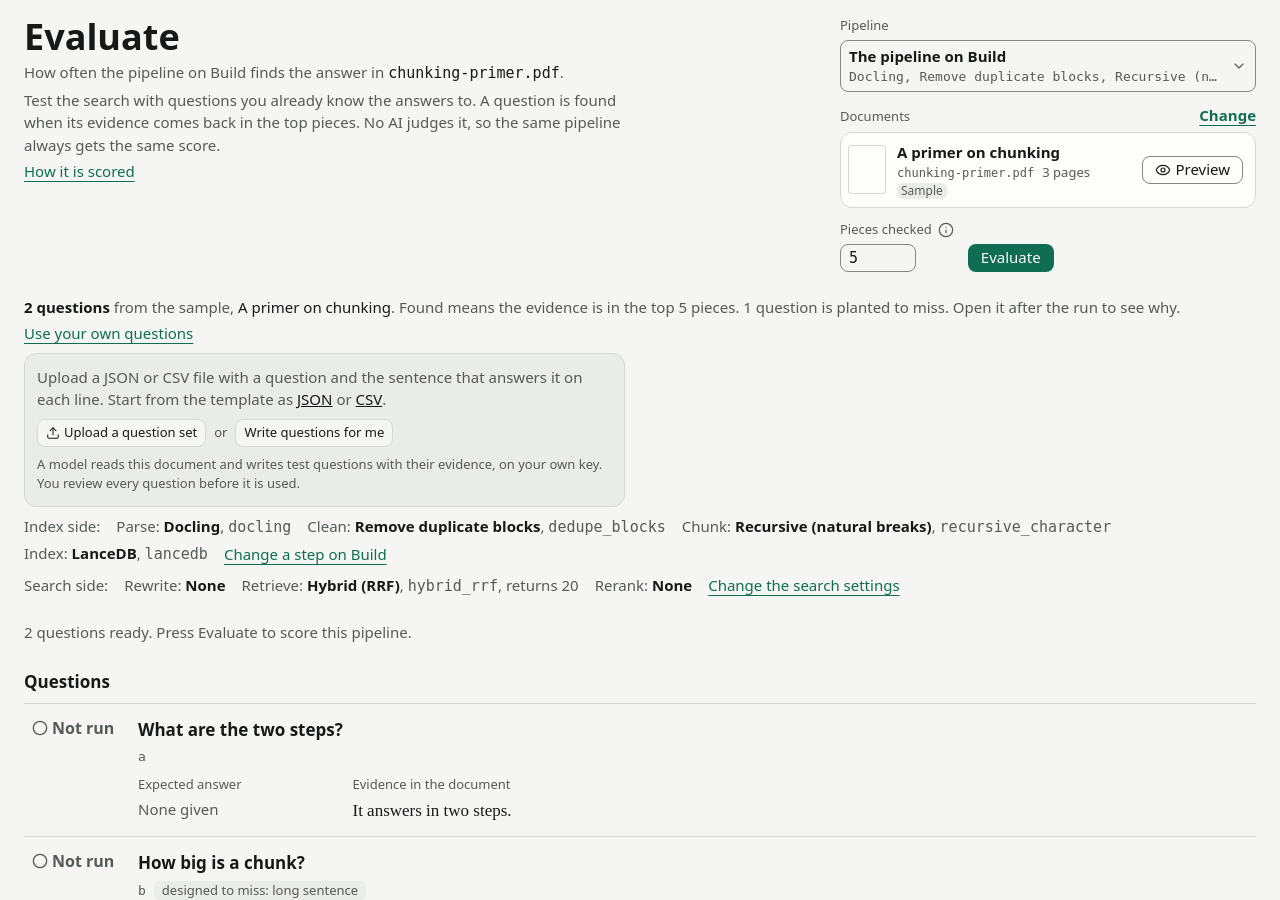
Test: questions written for you › saves the kept questions through the upload, and the set line names the model and the document
Click the button "Write questions for me" at (314,433), box [236,419,393,447]
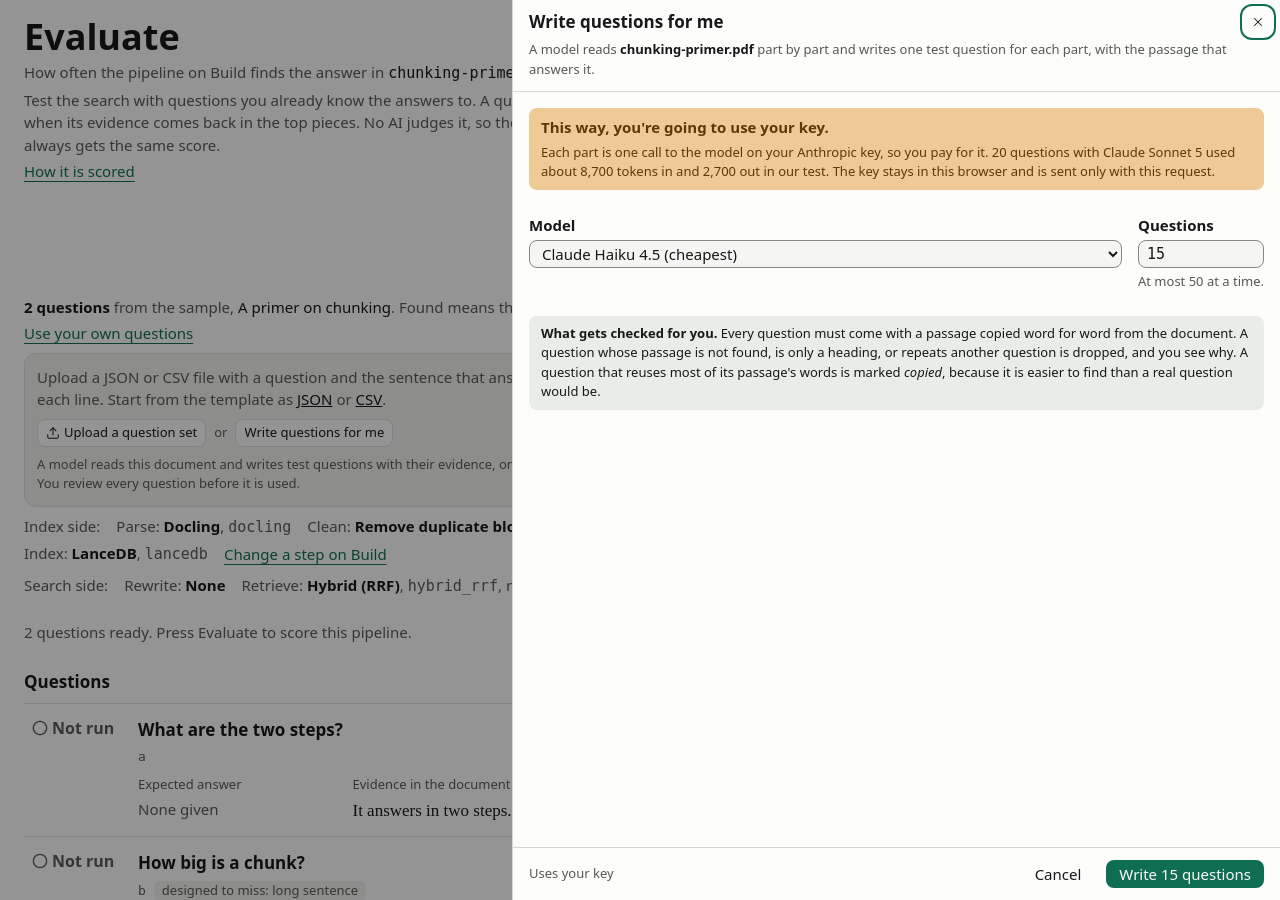
Click the button "Write 15 questions" at (1185,874), box [1106,860,1264,888]
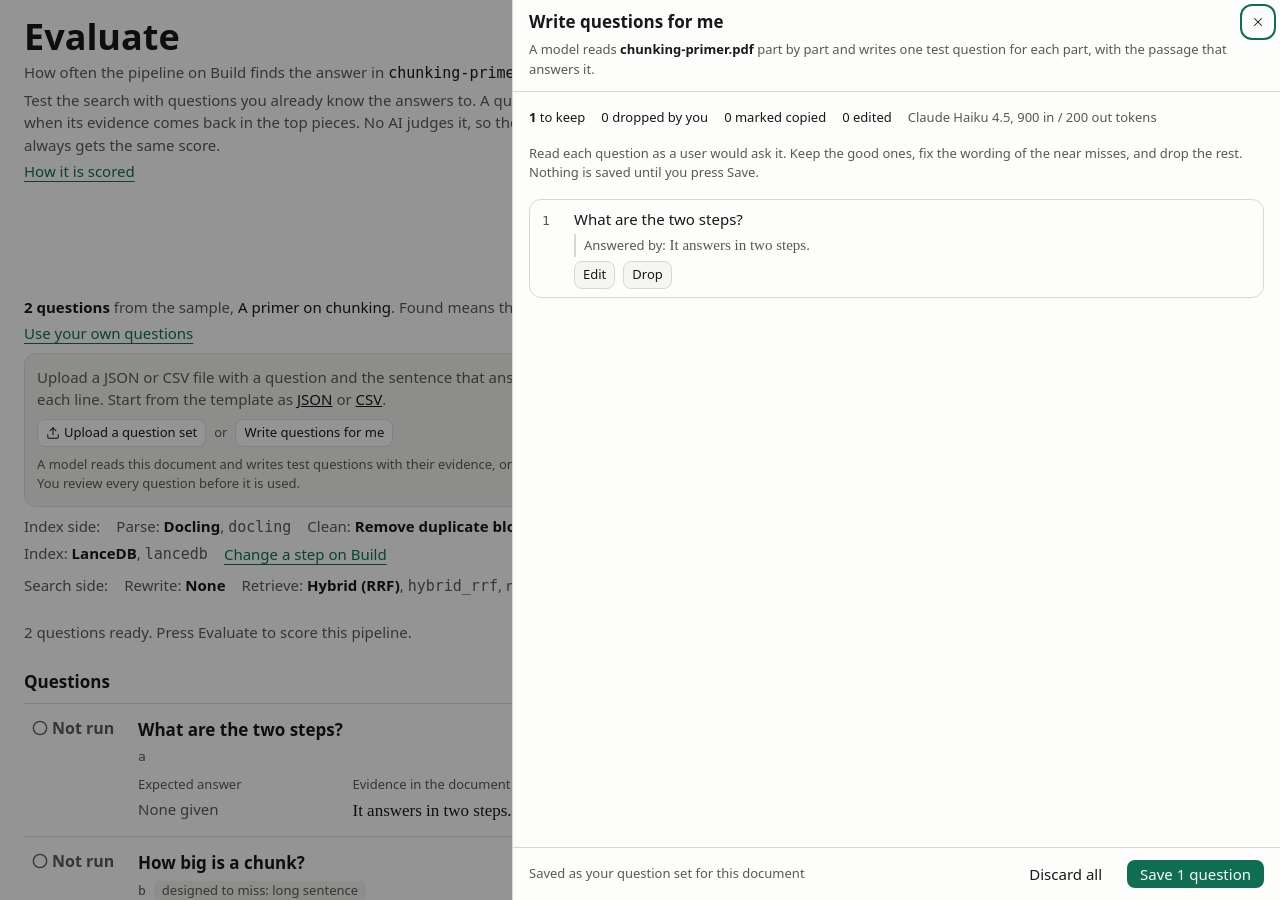
Click the button "Edit" at (595,274), box [574,260,615,288]
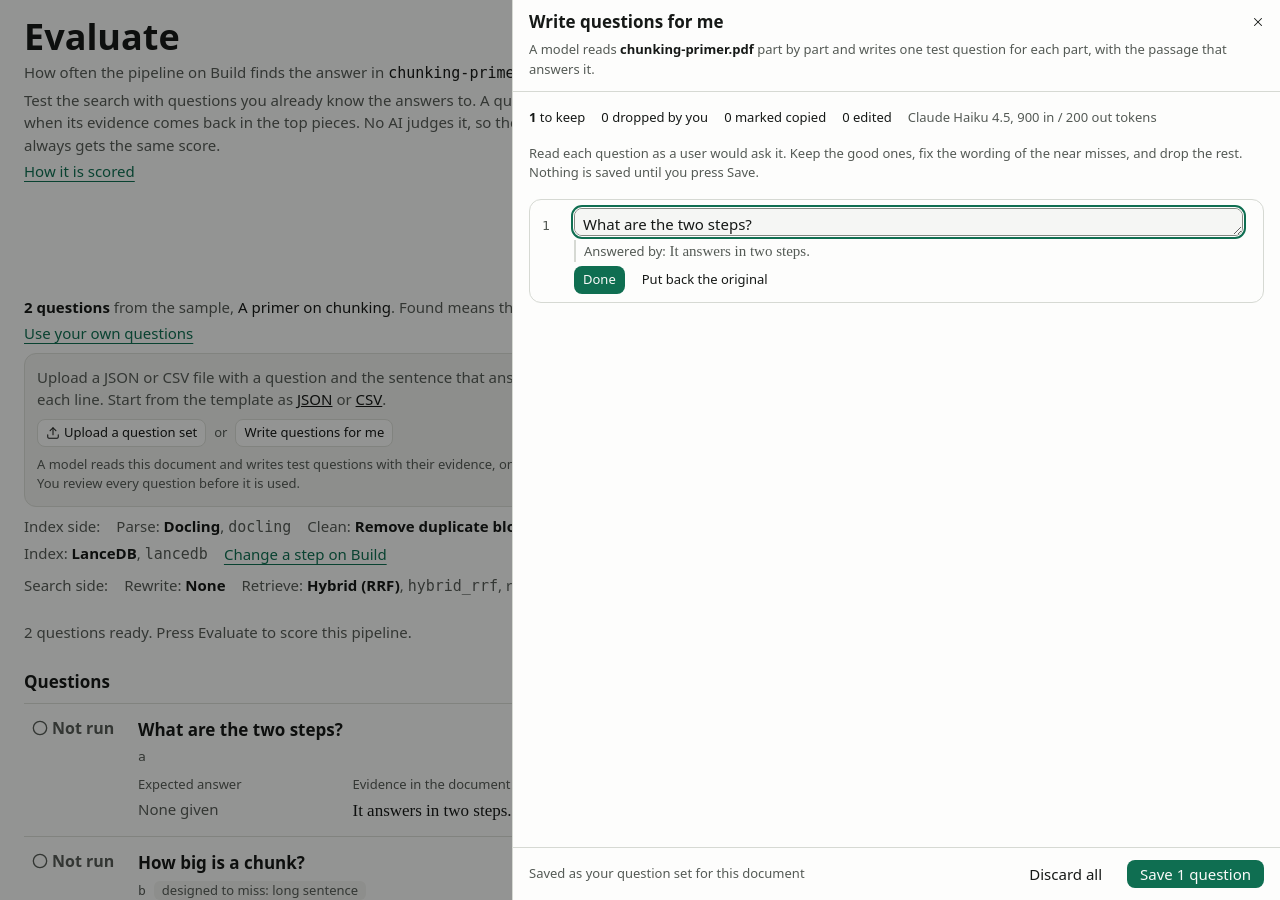
Replace the text in the text box with "Which two steps?" at (908,222), box [574,208,1243,236]
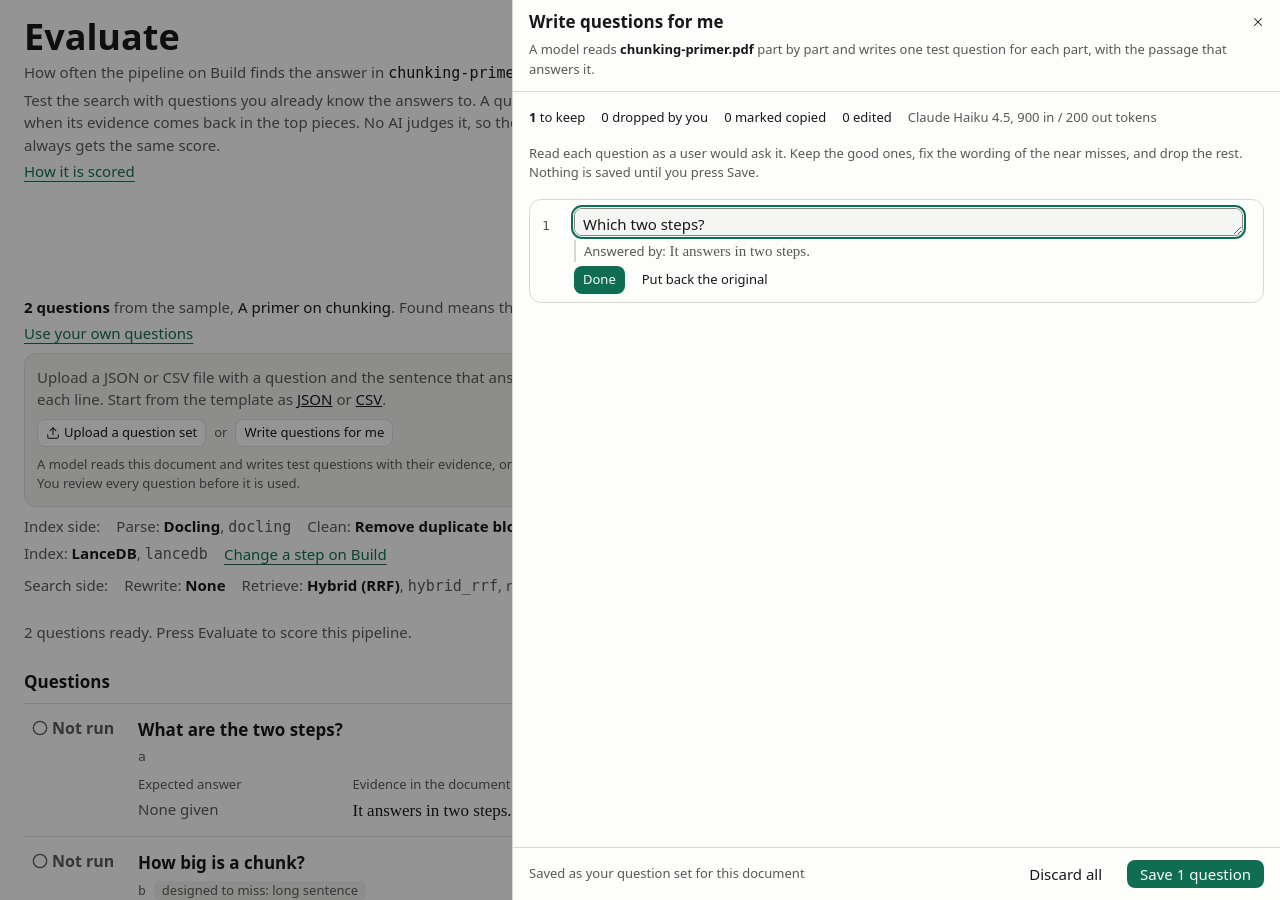
Click the button "Done" at (599,280), box [574,266,625,294]
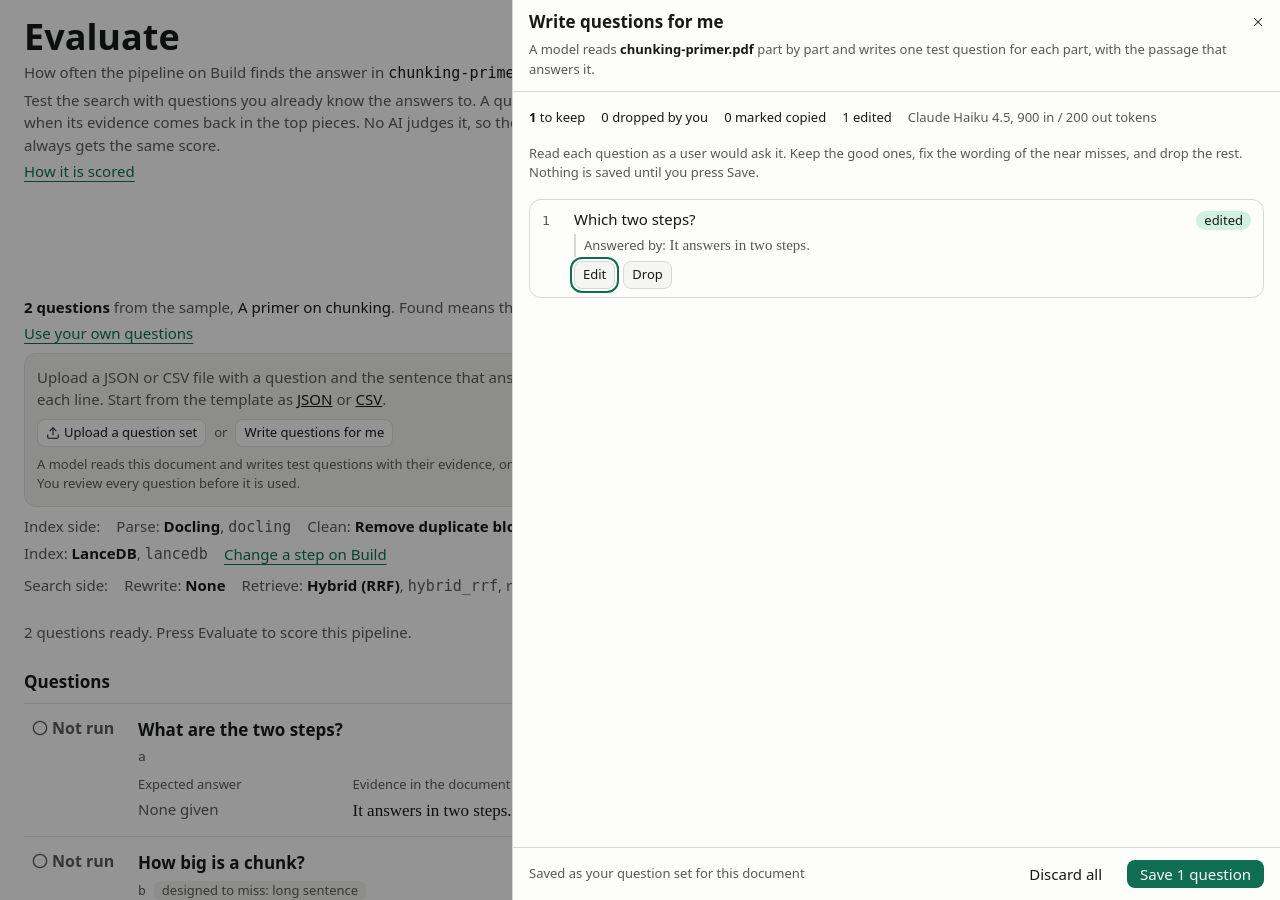
Click the button "Save 1 question" at (1196,874), box [1127,860,1264,888]
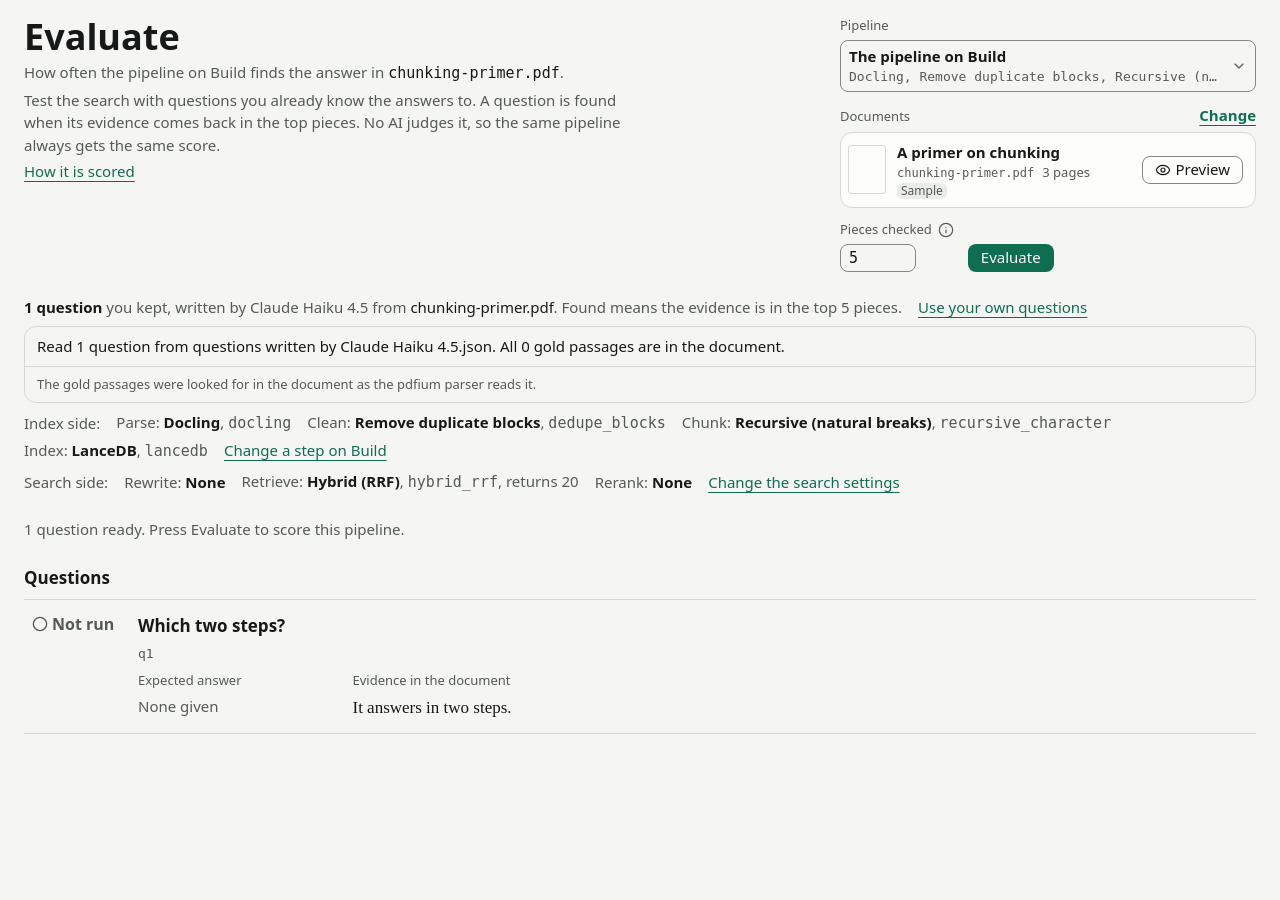
expect the dialog is gone: met
expect the element with test id "set-line" shows "1 question you kept, written by Claude Haiku 4.5 from chunking-primer.pdf.": met, box [24,296,902,318]
